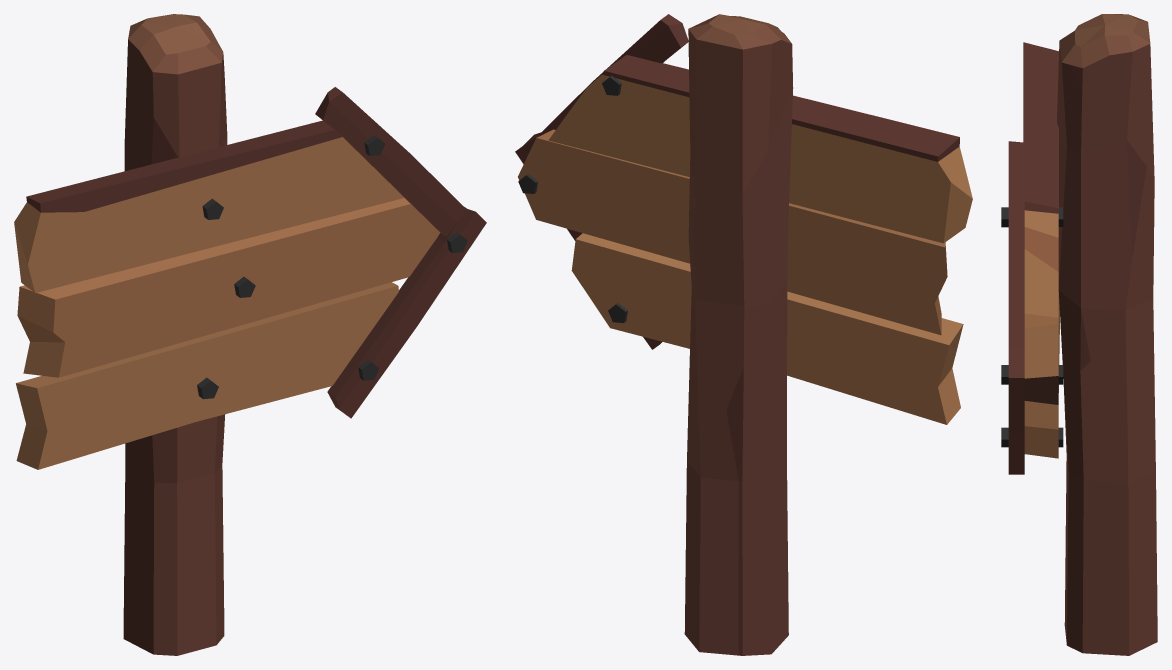
The model's file is singboard_pointer_2.fbx.
3 views of the same model, side by side, from view 1: azimuth 30°, elevation 25°; view 2: azimuth 150°, elevation 25°; view 3: azimuth 270°, elevation 25° (orthographic).
Parts seen in each view (by area): view 1: signboard_point; view 2: signboard_point; view 3: signboard_point.
Boxes of the visible parts, x1,y1,x2,y2 form: signboard_point: [14, 14, 486, 655]; signboard_point: [515, 14, 972, 655]; signboard_point: [1001, 14, 1157, 655].
Bounding box in the file's own units: 58.96 × 76.07 × 17.68.
